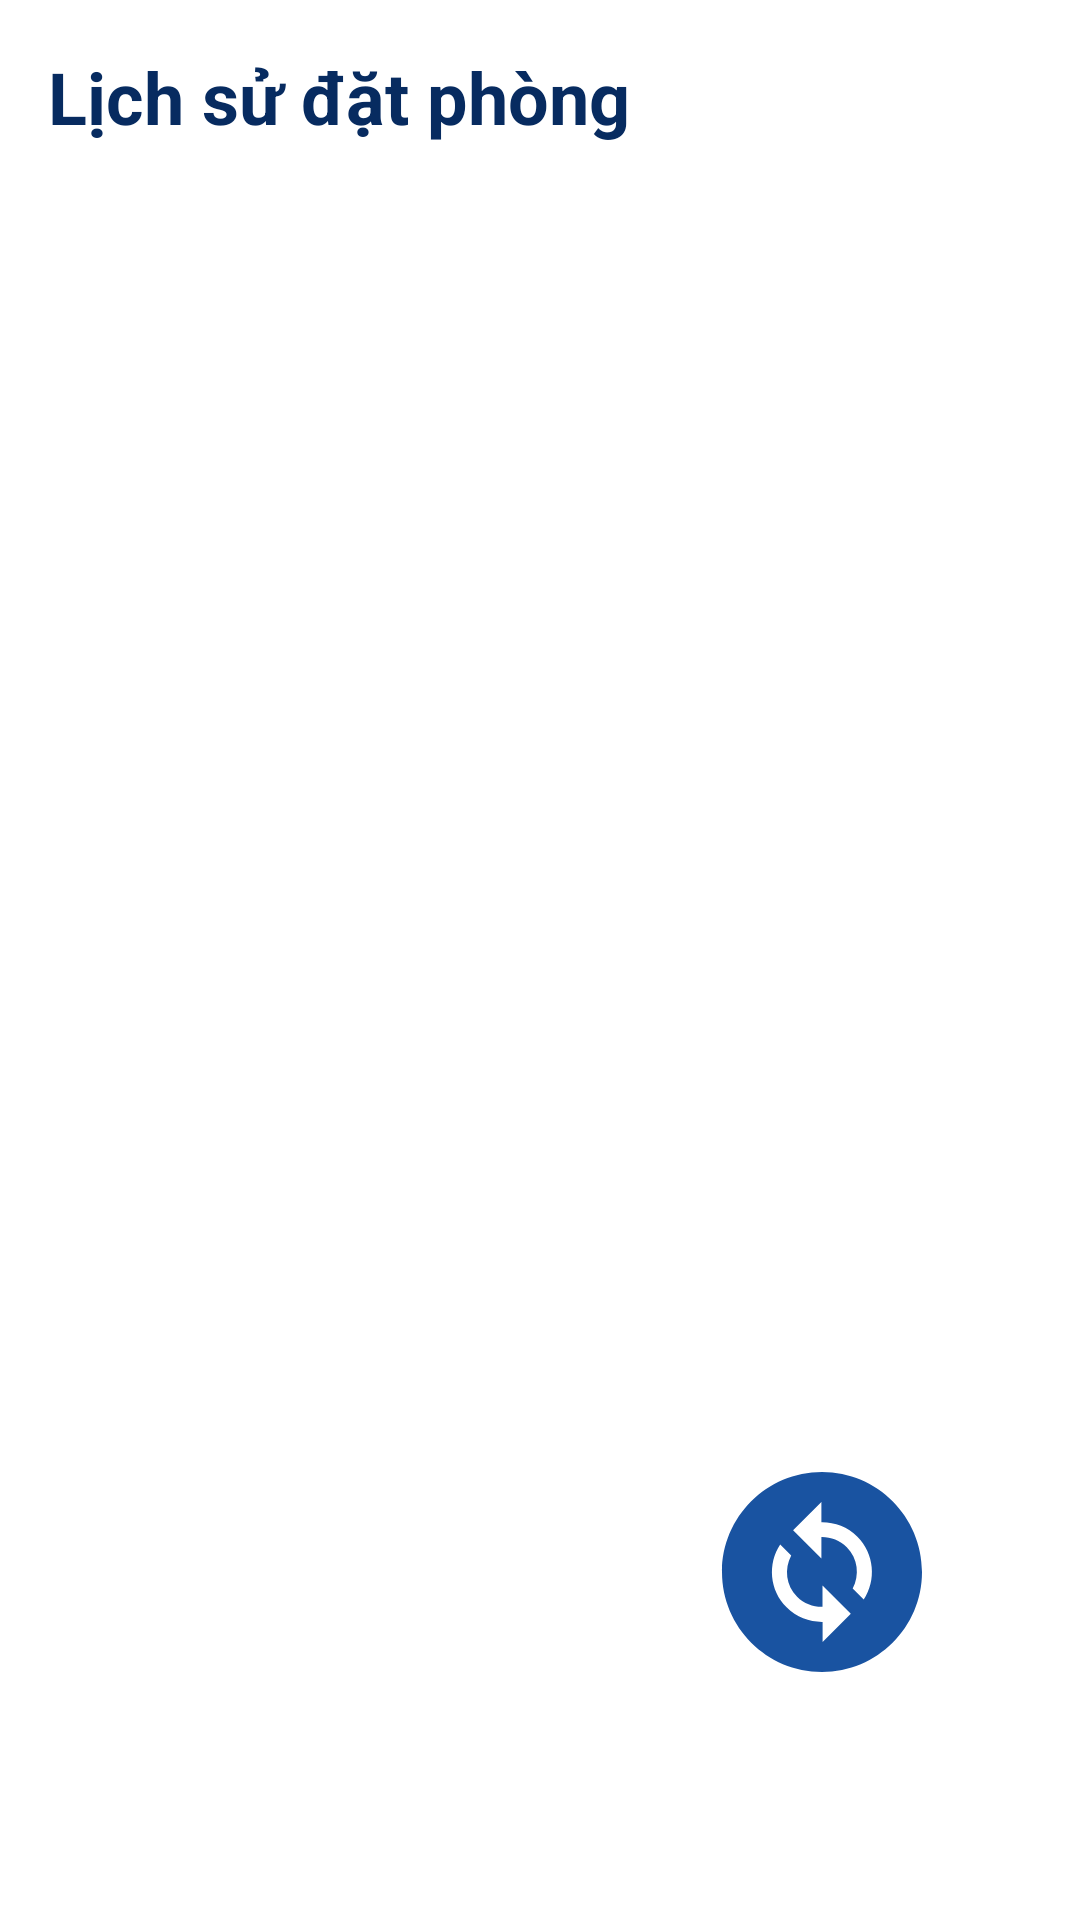

Icons on this 1080 x 1920 Android screen, each with its box as (x1, y1, x2, y2):
change: (722, 1472, 922, 1672)
